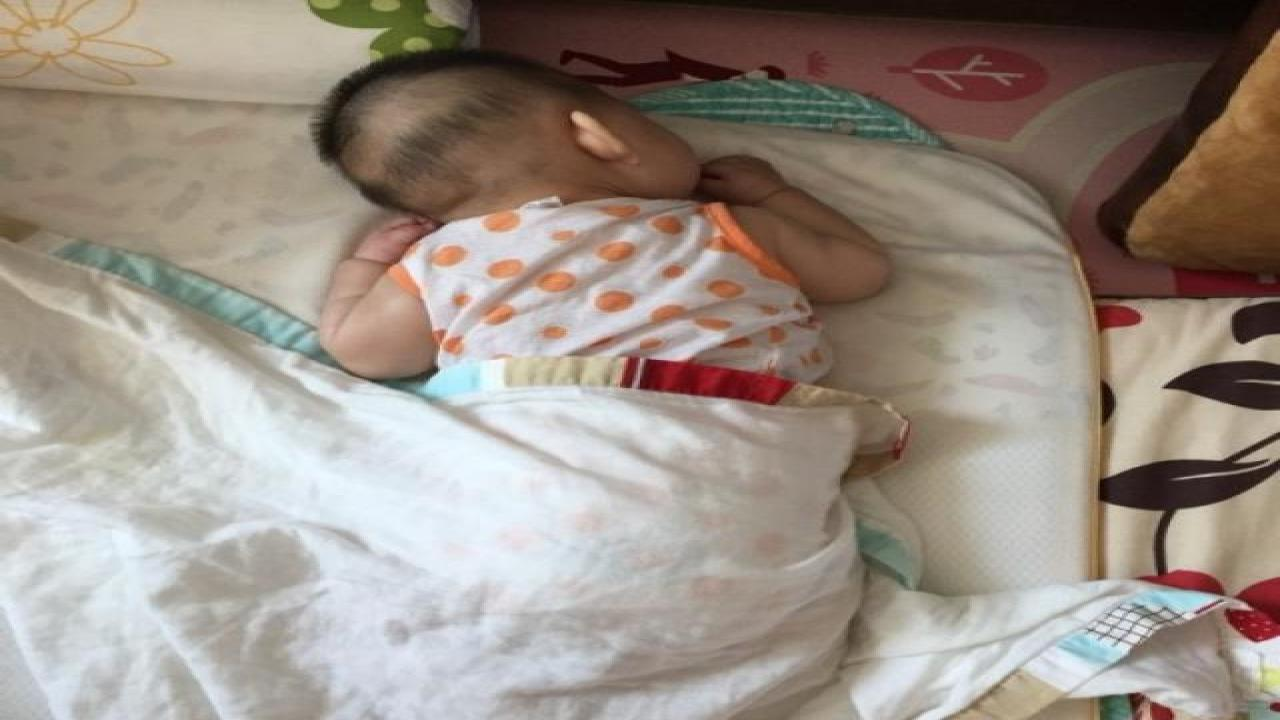hand: (693, 147, 787, 197), (349, 216, 433, 266)
